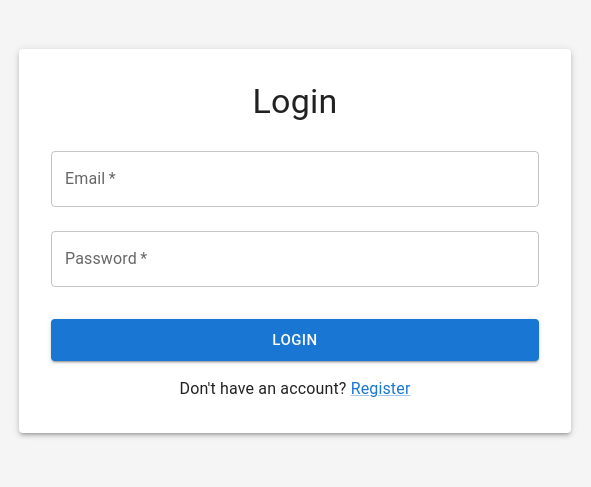
it: LoginPage › Login Flow › should show error message with invalid credentials
# Fill in with wrong credentials
Type "test@example.com" into the field labelled "Email *" at coordinates (295, 179), box [51,151,539,207]
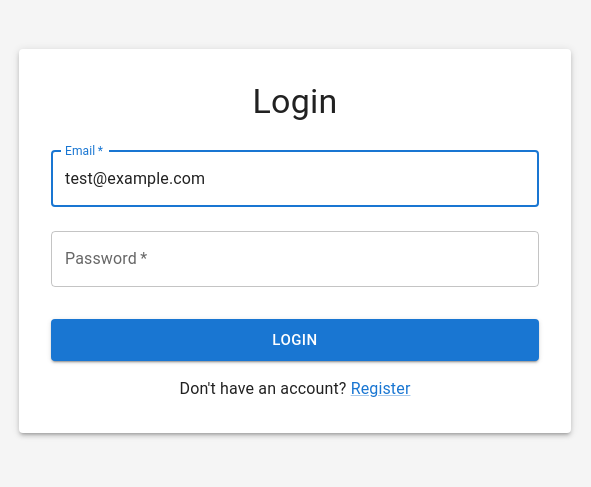
Type "wrongpassword" into the password field labelled "Password *" at coordinates (295, 259), box [51,231,539,287]
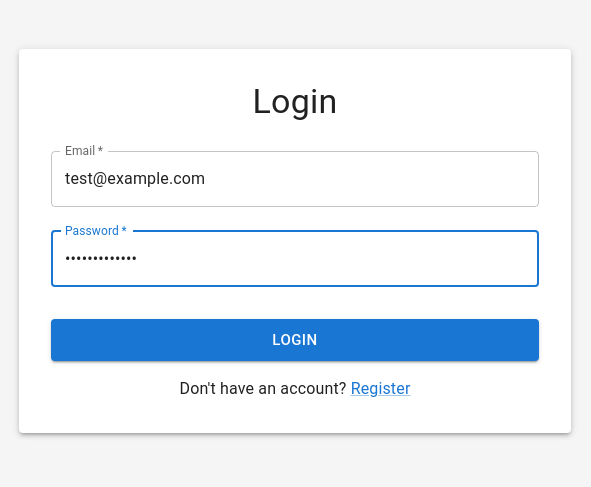
# Submit the form
Click the button "Login" at coordinates (295, 340), box [51,319,539,361]
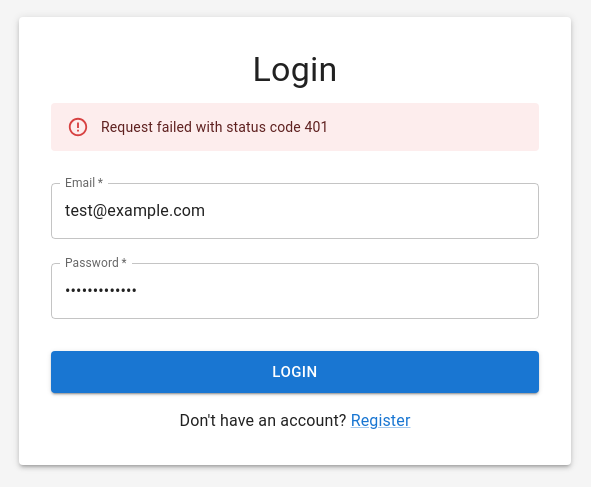
Result: the message is shown at [51,103,539,151]
